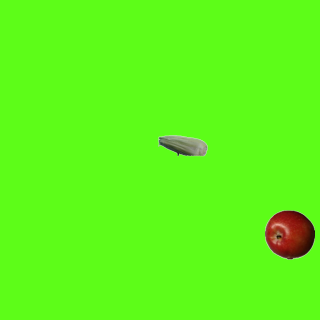Apple Braeburn: (264, 209, 314, 259)
Corn Husk: (157, 120, 207, 170)
